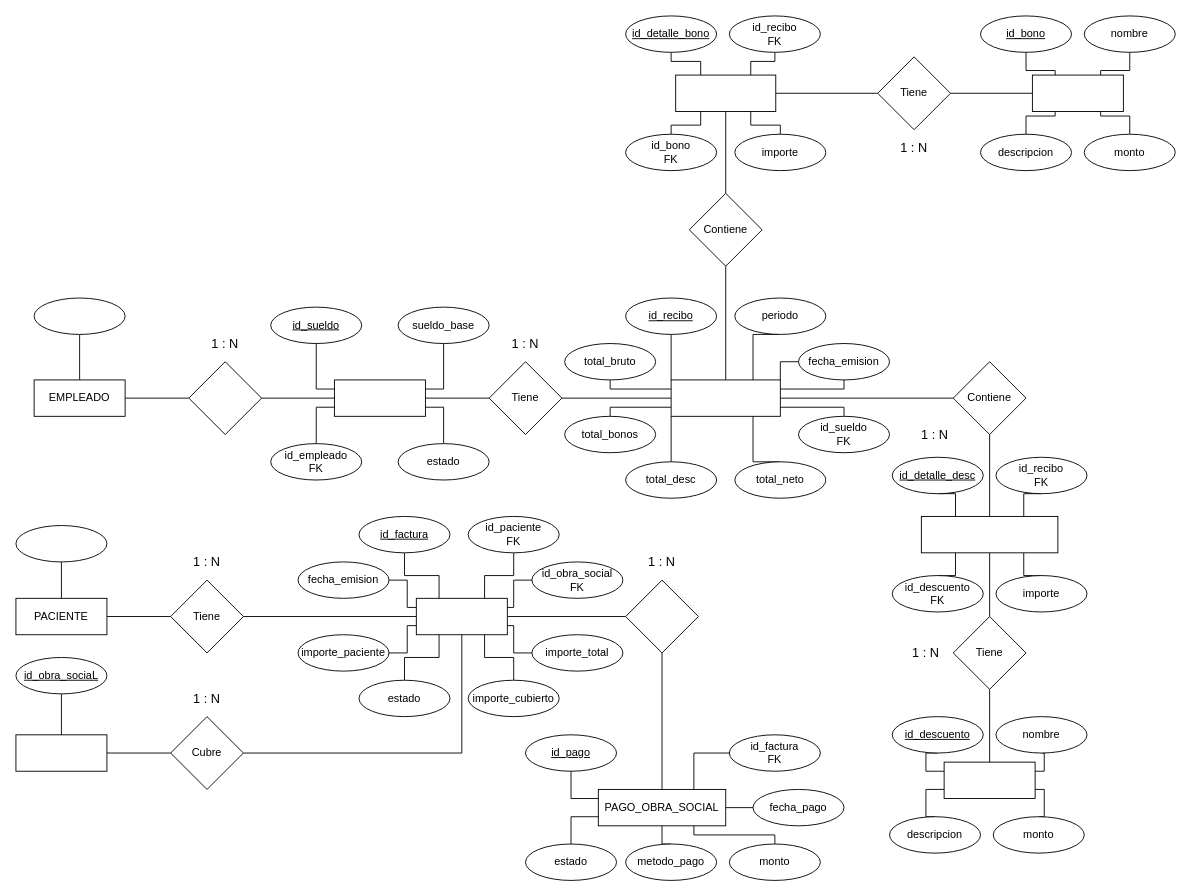
Image size: 1191x896. Some labels were removed from this diagram. The centre of each missing label's shape, as x and y in pixels:
"BONO" belongs at point 1077,92.
"DESCUENTO" belongs at point 989,780.
"DETALLE_BONO" belongs at point 725,92.
"DETALLE_DESCUENTO" belongs at point 989,534.
"FACTURA" belongs at point 461,616.
"id_empleado" belongs at point 79,315.
"id_paciente" belongs at point 61,543.
"OBRA_SOCIAL" belongs at point 61,752.
"Posee" belongs at point 225,398.
"RECIBO_SUELDO" belongs at point 725,397.
"Registra" belongs at point 661,616.
"SUELDO" belongs at point 379,397.
